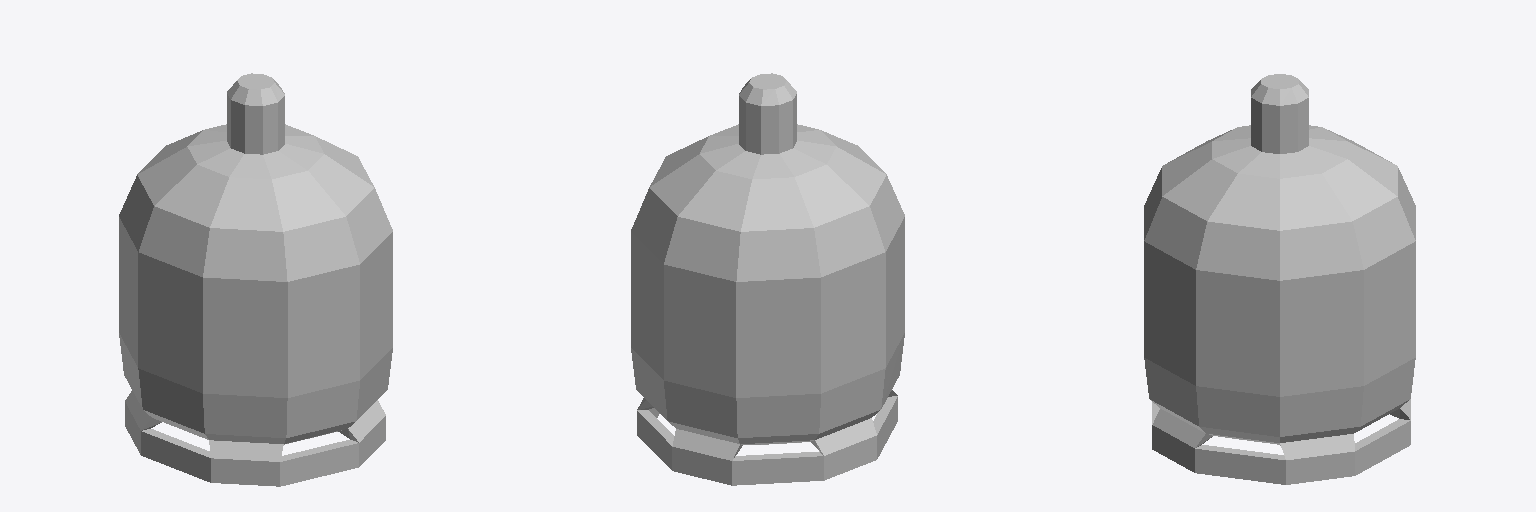
Rendered from propane_container.obj.
3 views of the same model, side by side, from view 1: azimuth 30°, elevation 25°; view 2: azimuth 150°, elevation 25°; view 3: azimuth 270°, elevation 25° (orthographic).
Visible parts, largest first — view 1: Carboy_02_Mesh.013, Carboy_02.001_Mesh.033; view 2: Carboy_02_Mesh.013, Carboy_02.001_Mesh.033; view 3: Carboy_02_Mesh.013, Carboy_02.001_Mesh.033.
Part boxes in pixels (x1,y1,x2,y2): Carboy_02_Mesh.013: (119,124,392,486); Carboy_02.001_Mesh.033: (227,73,284,154); Carboy_02_Mesh.013: (631,124,904,485); Carboy_02.001_Mesh.033: (739,73,796,154); Carboy_02_Mesh.013: (1144,125,1415,484); Carboy_02.001_Mesh.033: (1251,74,1308,153).
Bounding box in the file's own units: 0.15 × 0.2125 × 0.15.